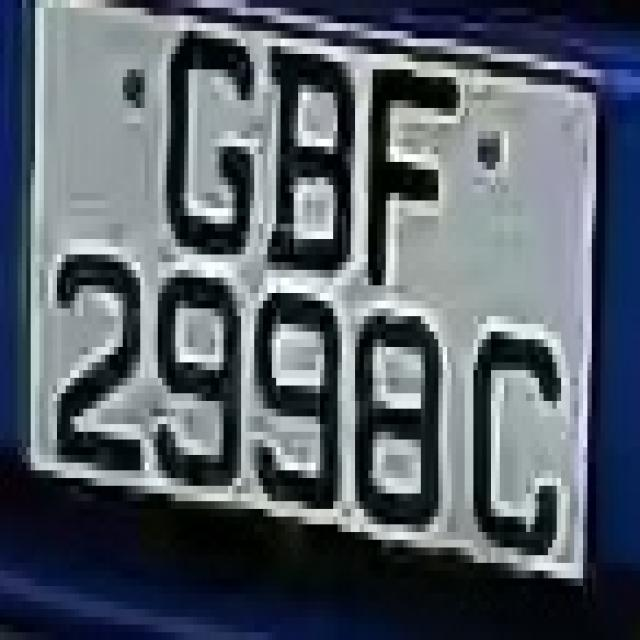2: (44, 216, 144, 486)
8: (351, 270, 452, 570)
9: (241, 262, 338, 540), (153, 262, 250, 517)
B: (259, 23, 355, 293)
C: (456, 308, 565, 578)
F: (364, 39, 451, 308)
G: (149, 0, 259, 262)
